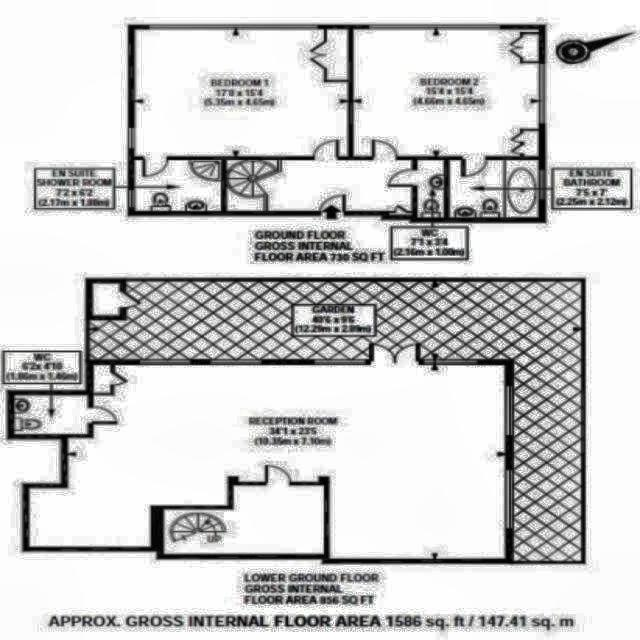room: (90, 281, 582, 562), (28, 364, 507, 559), (134, 29, 349, 157), (354, 29, 539, 157), (163, 485, 325, 555), (225, 160, 413, 211), (449, 160, 538, 218), (134, 160, 221, 211), (14, 395, 89, 434), (417, 160, 444, 218), (93, 284, 119, 315)
